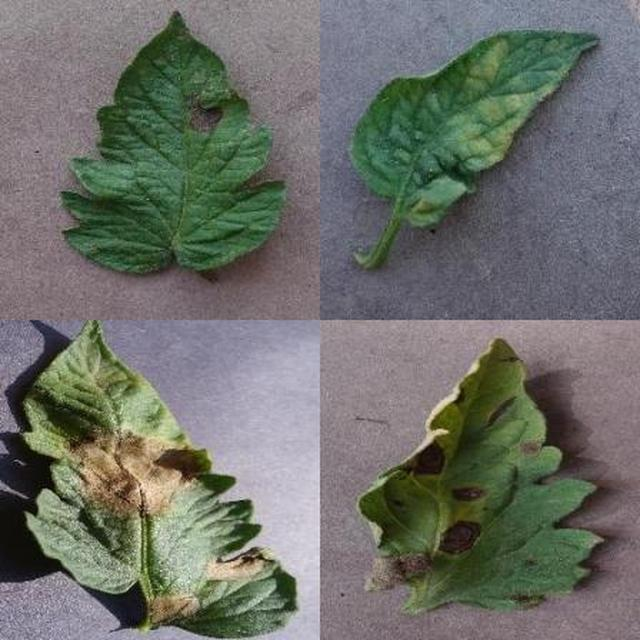Early Blight Leaf: (229, 185, 640, 640)
